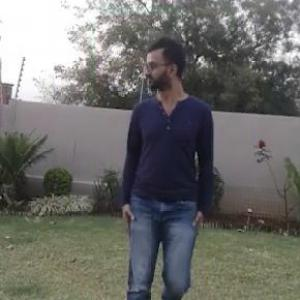follow: (107, 24, 224, 299)
